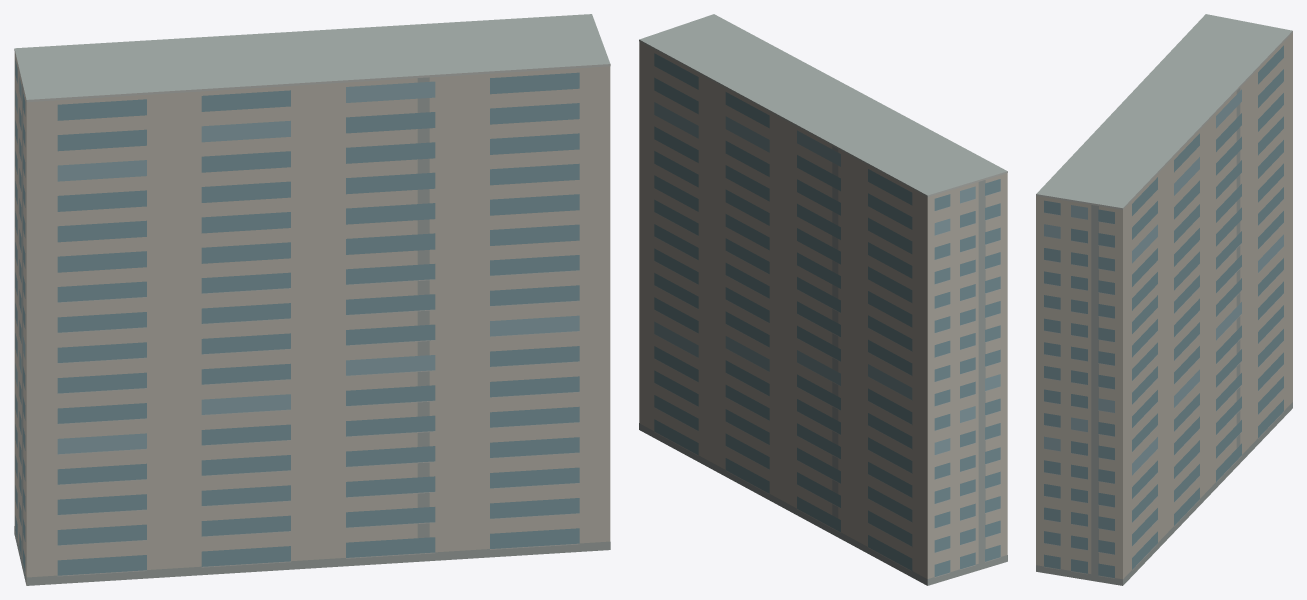
Rendered from residential-14dfff5a-8ed8-43fa-a5f5-ac990eef0b4e.glb.
3 views of the same model, side by side, from view 1: azimuth 30°, elevation 25°; view 2: azimuth 150°, elevation 25°; view 3: azimuth 270°, elevation 25° (orthographic). The views are drawn at different scales.
Visible parts, largest first — view 1: residential-14dfff5a-8ed8-43fa-a5f5-ac990eef0b4e.tmp; view 2: residential-14dfff5a-8ed8-43fa-a5f5-ac990eef0b4e.tmp; view 3: residential-14dfff5a-8ed8-43fa-a5f5-ac990eef0b4e.tmp.
Boxes of the visible parts, <box> form: residential-14dfff5a-8ed8-43fa-a5f5-ac990eef0b4e.tmp: <box>14,14,610,585</box>; residential-14dfff5a-8ed8-43fa-a5f5-ac990eef0b4e.tmp: <box>639,14,1007,585</box>; residential-14dfff5a-8ed8-43fa-a5f5-ac990eef0b4e.tmp: <box>1036,14,1292,585</box>.
Size of the model in its own units: 57.36 by 52 by 32.04.
